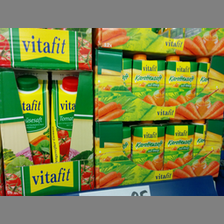juice: (16, 70, 53, 165), (51, 72, 80, 162), (165, 53, 198, 107), (132, 53, 165, 106), (131, 122, 164, 170), (164, 119, 194, 170)
